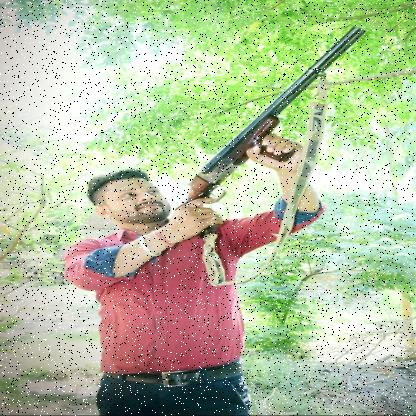rifle: (172, 24, 369, 240)
